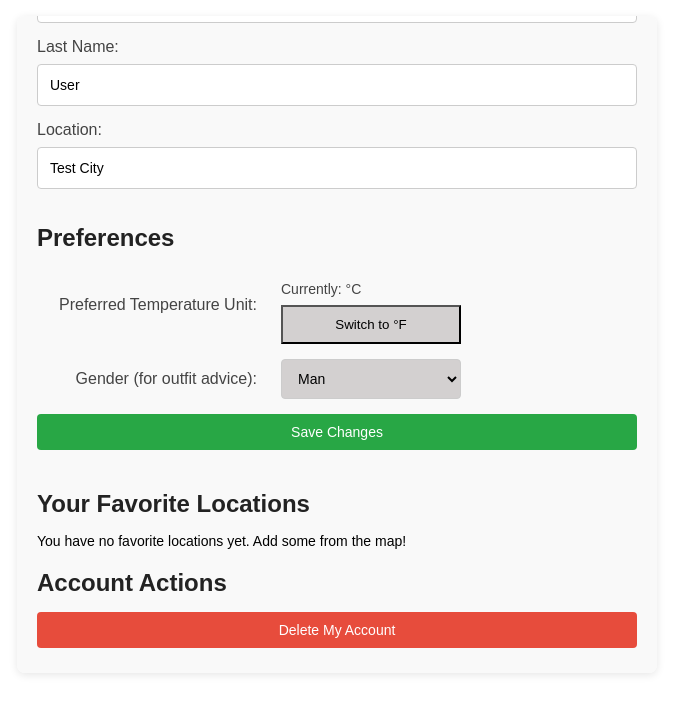
Test: UserProfileDisplay Component › parses and displays other error on save failure
(page scrolled)
Click the button "Save Changes" at x=337, y=432, box [37,414,637,450]
(page scrolled)
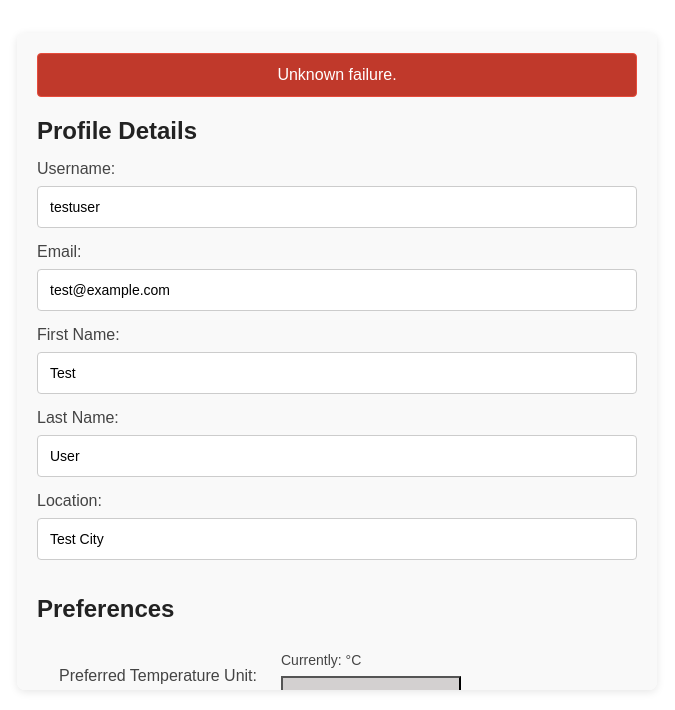
Check: the text "Unknown failure." is shown, box [37,53,637,97]
